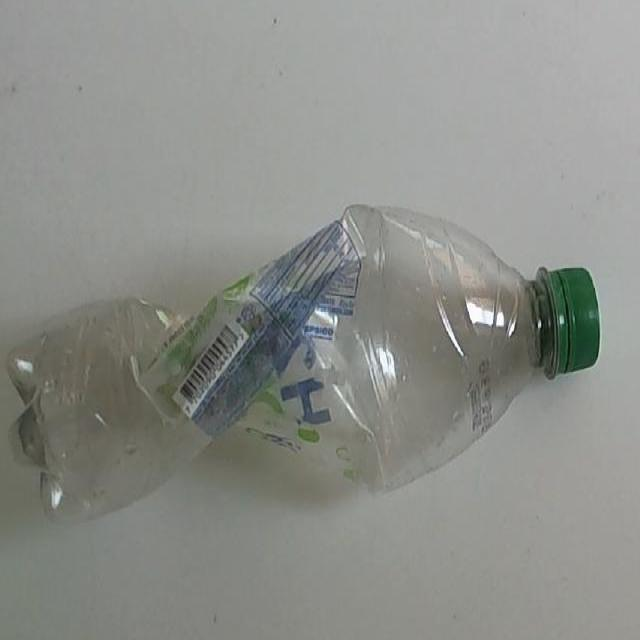defect: (0, 196, 603, 530)
